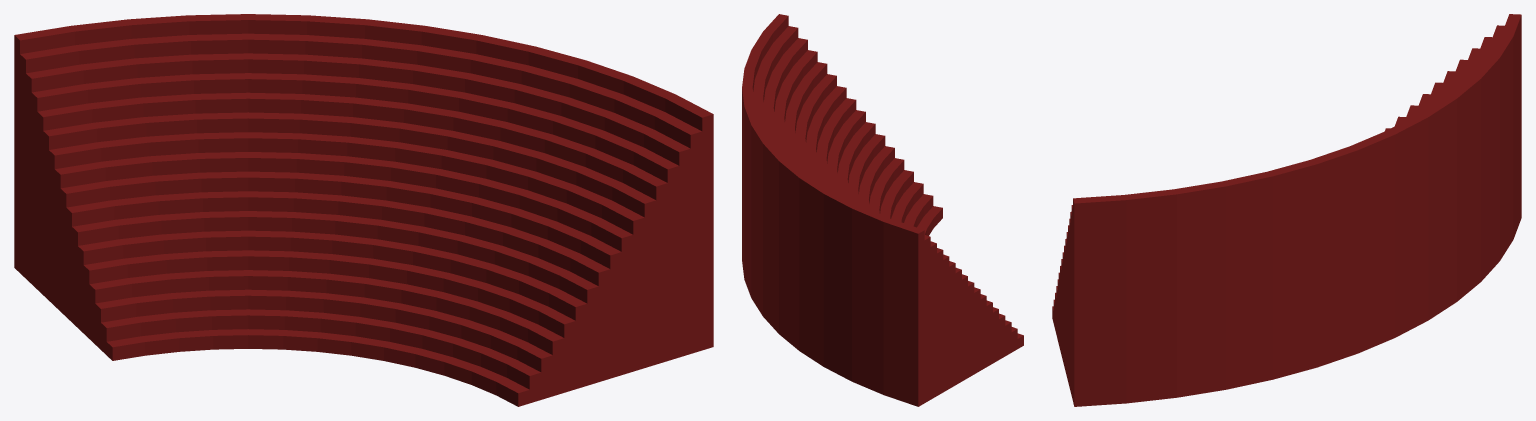
The model's file is gradins 1.fbx.
3 renders of one model, left to right at view 1: azimuth 30°, elevation 25°; view 2: azimuth 150°, elevation 25°; view 3: azimuth 270°, elevation 25°, orthographic. The views are drawn at different scales.
Visible parts, largest first — view 1: Gradin1.002; view 2: Gradin1.002; view 3: Gradin1.002.
Part boxes in pixels (bbox=[...]): Gradin1.002: bbox=[14, 14, 713, 406]; Gradin1.002: bbox=[742, 14, 1023, 406]; Gradin1.002: bbox=[1052, 14, 1521, 406].
Bounding box in the file's own units: 2257 × 1079 × 2257.
